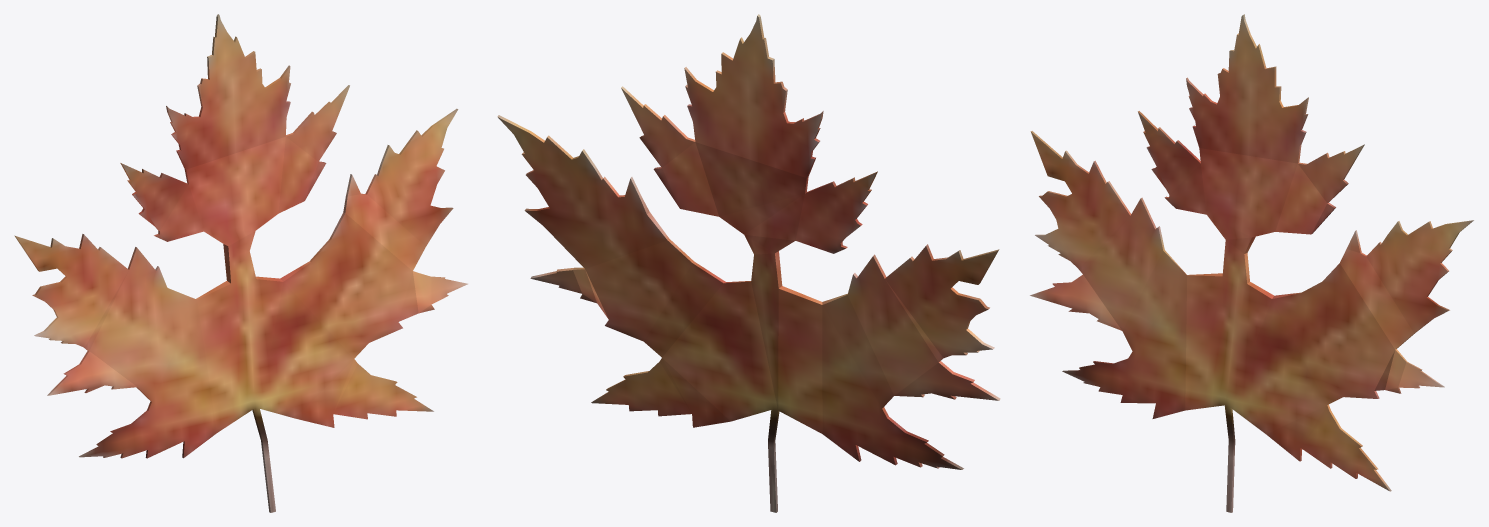
File: mapleleaf.fbx
The picture shows the model from 3 angles, left to right: view 1: azimuth 30°, elevation 25°; view 2: azimuth 150°, elevation 25°; view 3: azimuth 330°, elevation 25°; orthographic projection. The views are drawn at different scales.
Parts seen in each view (by area): view 1: mapleleaf; view 2: mapleleaf; view 3: mapleleaf.
Boxes of the visible parts, x1,y1,x2,y2 form: mapleleaf: (14, 14, 467, 512); mapleleaf: (497, 14, 1000, 512); mapleleaf: (1030, 14, 1473, 512).
Bounding box in the file's own units: 43.13 × 44.04 × 5.99.
